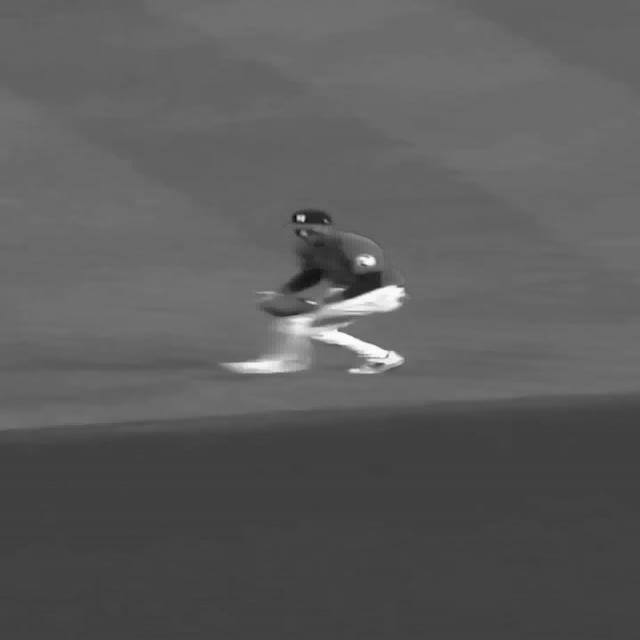baseball_glove: (254, 290, 320, 317)
shoe: (218, 357, 310, 374), (346, 350, 405, 374)
